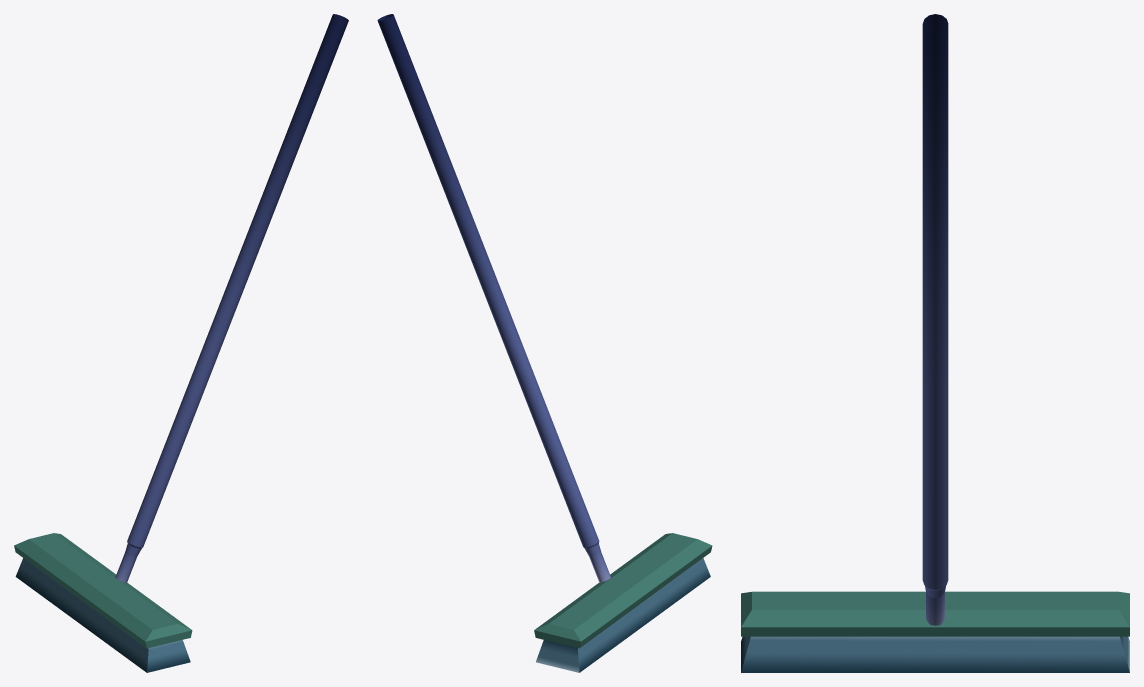
File: Broom.fbx
The picture shows the model from 3 angles, left to right: view 1: azimuth 30°, elevation 25°; view 2: azimuth 150°, elevation 25°; view 3: azimuth 270°, elevation 25°; orthographic projection. The views are drawn at different scales.
Parts seen in each view (by area): view 1: polySurface40, polySurface39; view 2: polySurface40, polySurface39; view 3: polySurface40, polySurface39.
Boxes of the visible parts, box(x1,y1,x2,y2) form: polySurface40: box(14, 533, 192, 672); polySurface39: box(115, 14, 348, 582); polySurface40: box(534, 533, 712, 672); polySurface39: box(377, 14, 610, 582); polySurface40: box(741, 591, 1129, 672); polySurface39: box(922, 14, 948, 621).
Bounding box in the file's own units: 113 × 220 × 95.9.
1 material, 1 textured.
